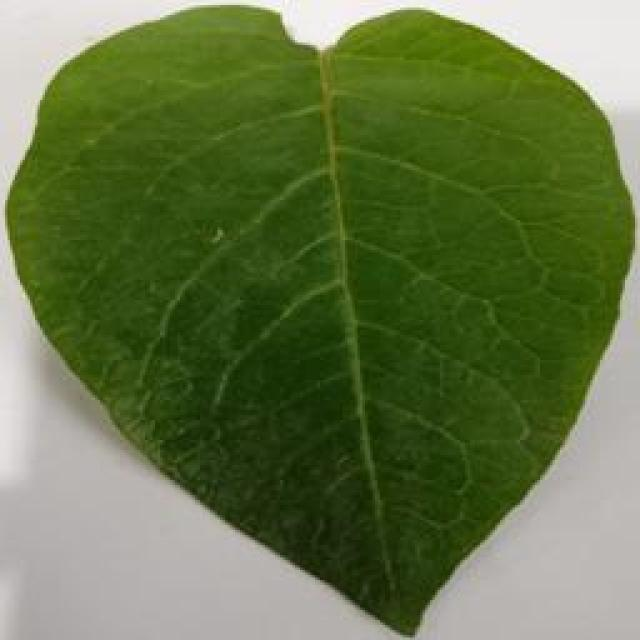Potato_Healthy: (6, 7, 624, 637)
